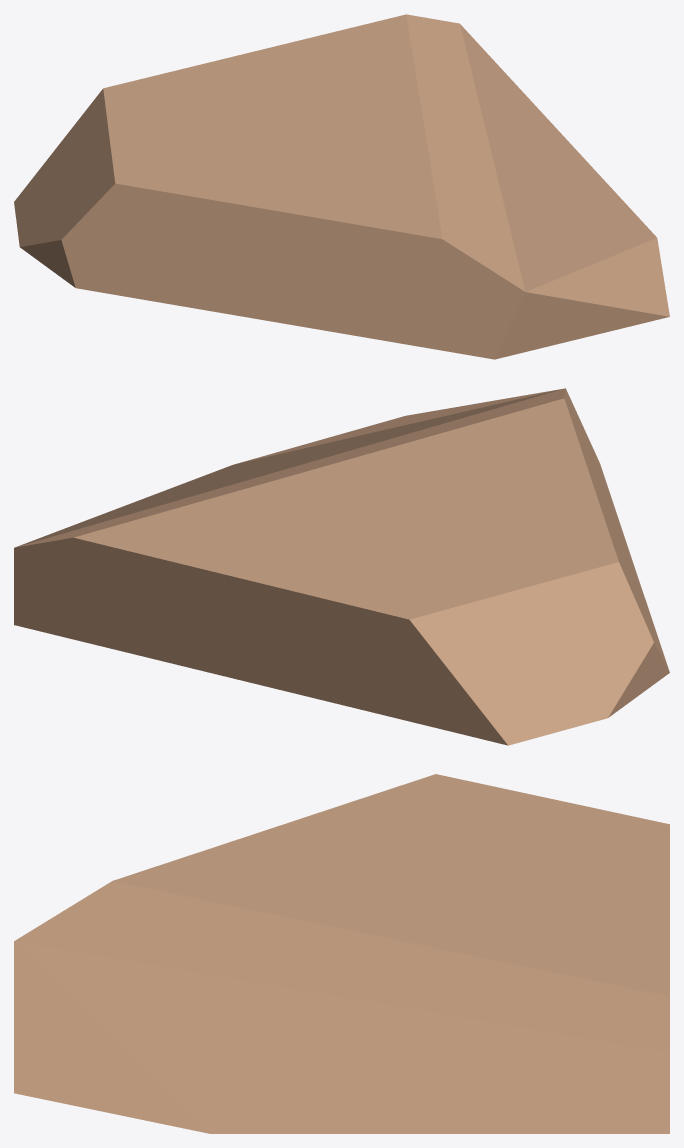
The model's file is Rock_Flat_s_06.fbx.
3 renders of one model, top to bottom at view 1: azimuth 30°, elevation 25°; view 2: azimuth 150°, elevation 25°; view 3: azimuth 270°, elevation 25°, orthographic. The views are drawn at different scales.
Visible parts, largest first — view 1: Rock_Flat_s_06; view 2: Rock_Flat_s_06; view 3: Rock_Flat_s_06.
Boxes of the visible parts, x1,y1,x2,y2 form: Rock_Flat_s_06: (14, 14, 669, 359); Rock_Flat_s_06: (14, 388, 669, 745); Rock_Flat_s_06: (14, 774, 669, 1133).
Bounding box in the file's own units: 75.6 × 13.61 × 75.6.
